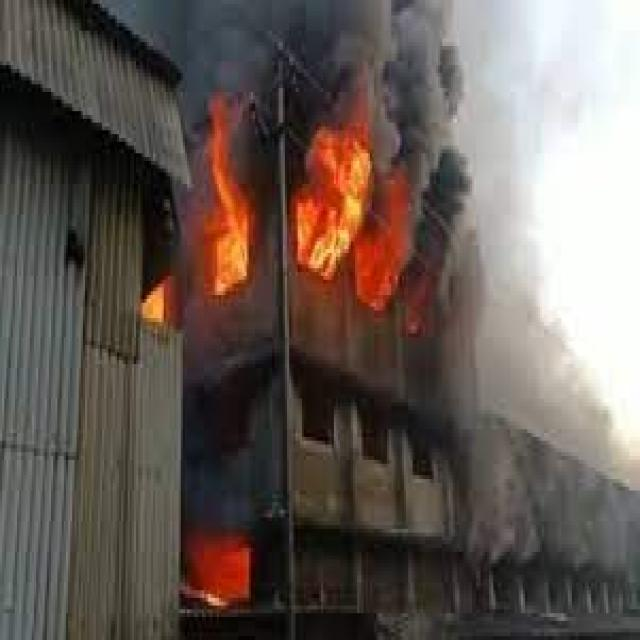fire: (287, 126, 372, 288), (204, 96, 249, 291), (359, 172, 406, 306)
smoke: (463, 7, 640, 494), (465, 310, 640, 559), (123, 4, 385, 130), (385, 4, 461, 176), (411, 154, 478, 310)
